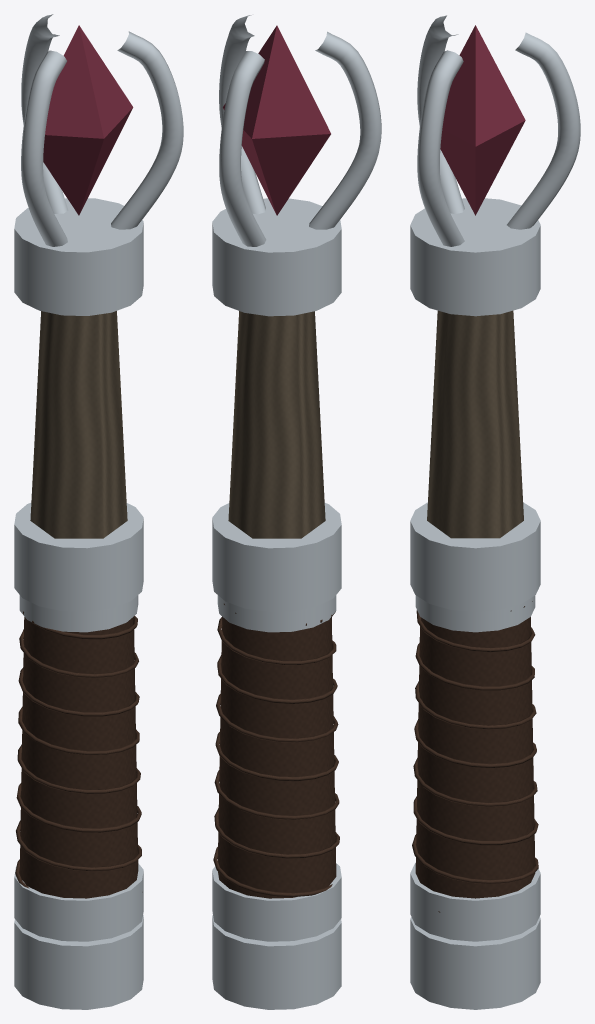
The model's file is corealm_wand_3.glb.
3 views of the same model, side by side, from view 1: azimuth 30°, elevation 25°; view 2: azimuth 150°, elevation 25°; view 3: azimuth 270°, elevation 25° (orthographic).
Visible parts, largest first — view 1: corealm-weapon-metal, corealm-weapon-leather, corealm-weapon-wood, corealm-weapon-gem; view 2: corealm-weapon-metal, corealm-weapon-leather, corealm-weapon-wood, corealm-weapon-gem; view 3: corealm-weapon-metal, corealm-weapon-leather, corealm-weapon-wood, corealm-weapon-gem.
Boxes of the visible parts, left/top/right/bottom form: corealm-weapon-metal: left=14, top=14, right=183, bottom=1009; corealm-weapon-leather: left=15, top=611, right=142, bottom=898; corealm-weapon-wood: left=30, top=311, right=127, bottom=538; corealm-weapon-gem: left=43, top=25, right=133, bottom=215; corealm-weapon-metal: left=212, top=15, right=381, bottom=1009; corealm-weapon-leather: left=213, top=603, right=339, bottom=898; corealm-weapon-wood: left=228, top=311, right=325, bottom=538; corealm-weapon-gem: left=223, top=25, right=330, bottom=215; corealm-weapon-metal: left=410, top=15, right=580, bottom=1009; corealm-weapon-leather: left=412, top=601, right=538, bottom=912; corealm-weapon-wood: left=427, top=310, right=523, bottom=538; corealm-weapon-gem: left=440, top=25, right=525, bottom=215.
Bounding box in the file's own units: 0.0738 × 0.421 × 0.0679.
4 materials, 2 textured.
